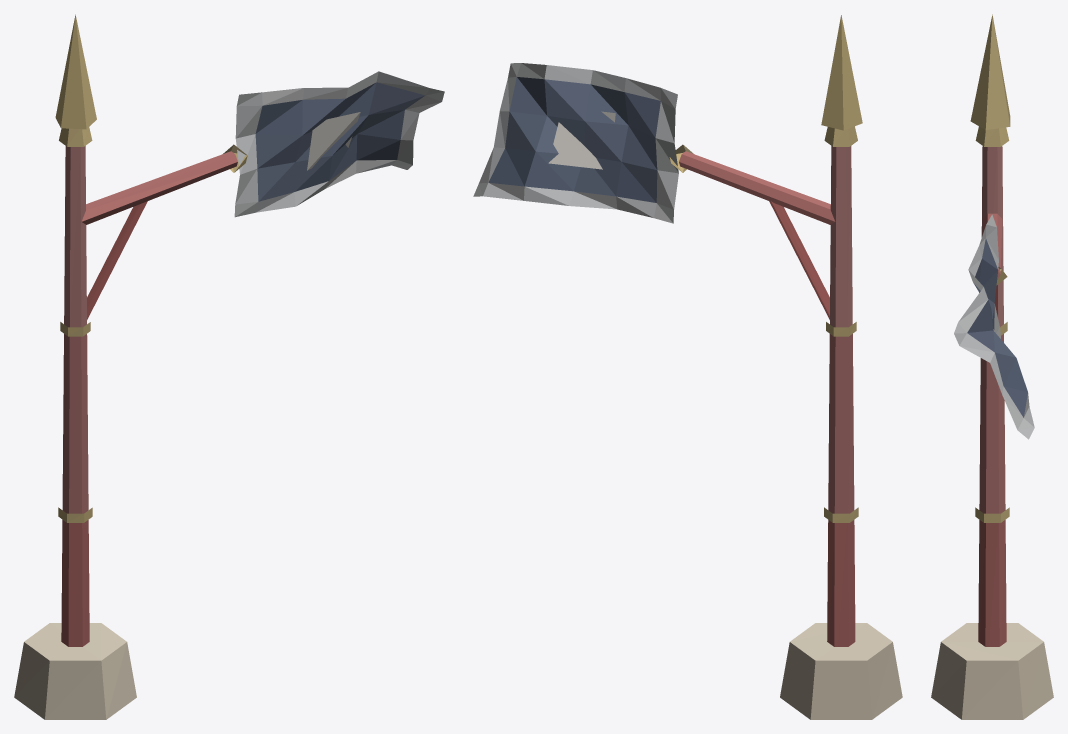
Rendered from flag.notched.dianqi__pole.ground.miaogan__armFly.glb.
3 views of the same model, side by side, from view 1: azimuth 30°, elevation 25°; view 2: azimuth 150°, elevation 25°; view 3: azimuth 270°, elevation 25° (orthographic).
Parts seen in each view (by area): view 1: flag.notched.dianqi; view 2: flag.notched.dianqi; view 3: flag.notched.dianqi.
Boxes of the visible parts, x1,y1,x2,y2 form: flag.notched.dianqi: (14,14,444,719); flag.notched.dianqi: (473,15,902,719); flag.notched.dianqi: (931,14,1053,719).
Size of the model in its own units: 3.13 by 5.16 by 0.84.
